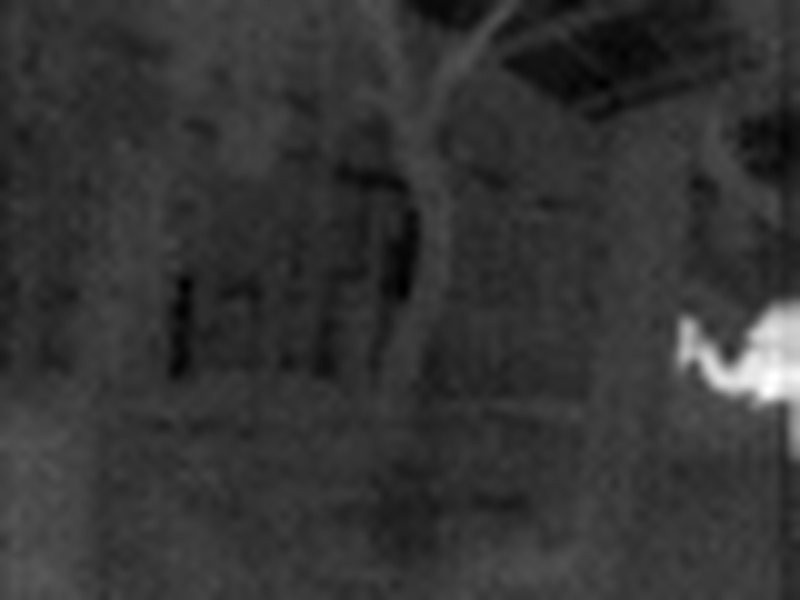elephant: (663, 287, 800, 490)
